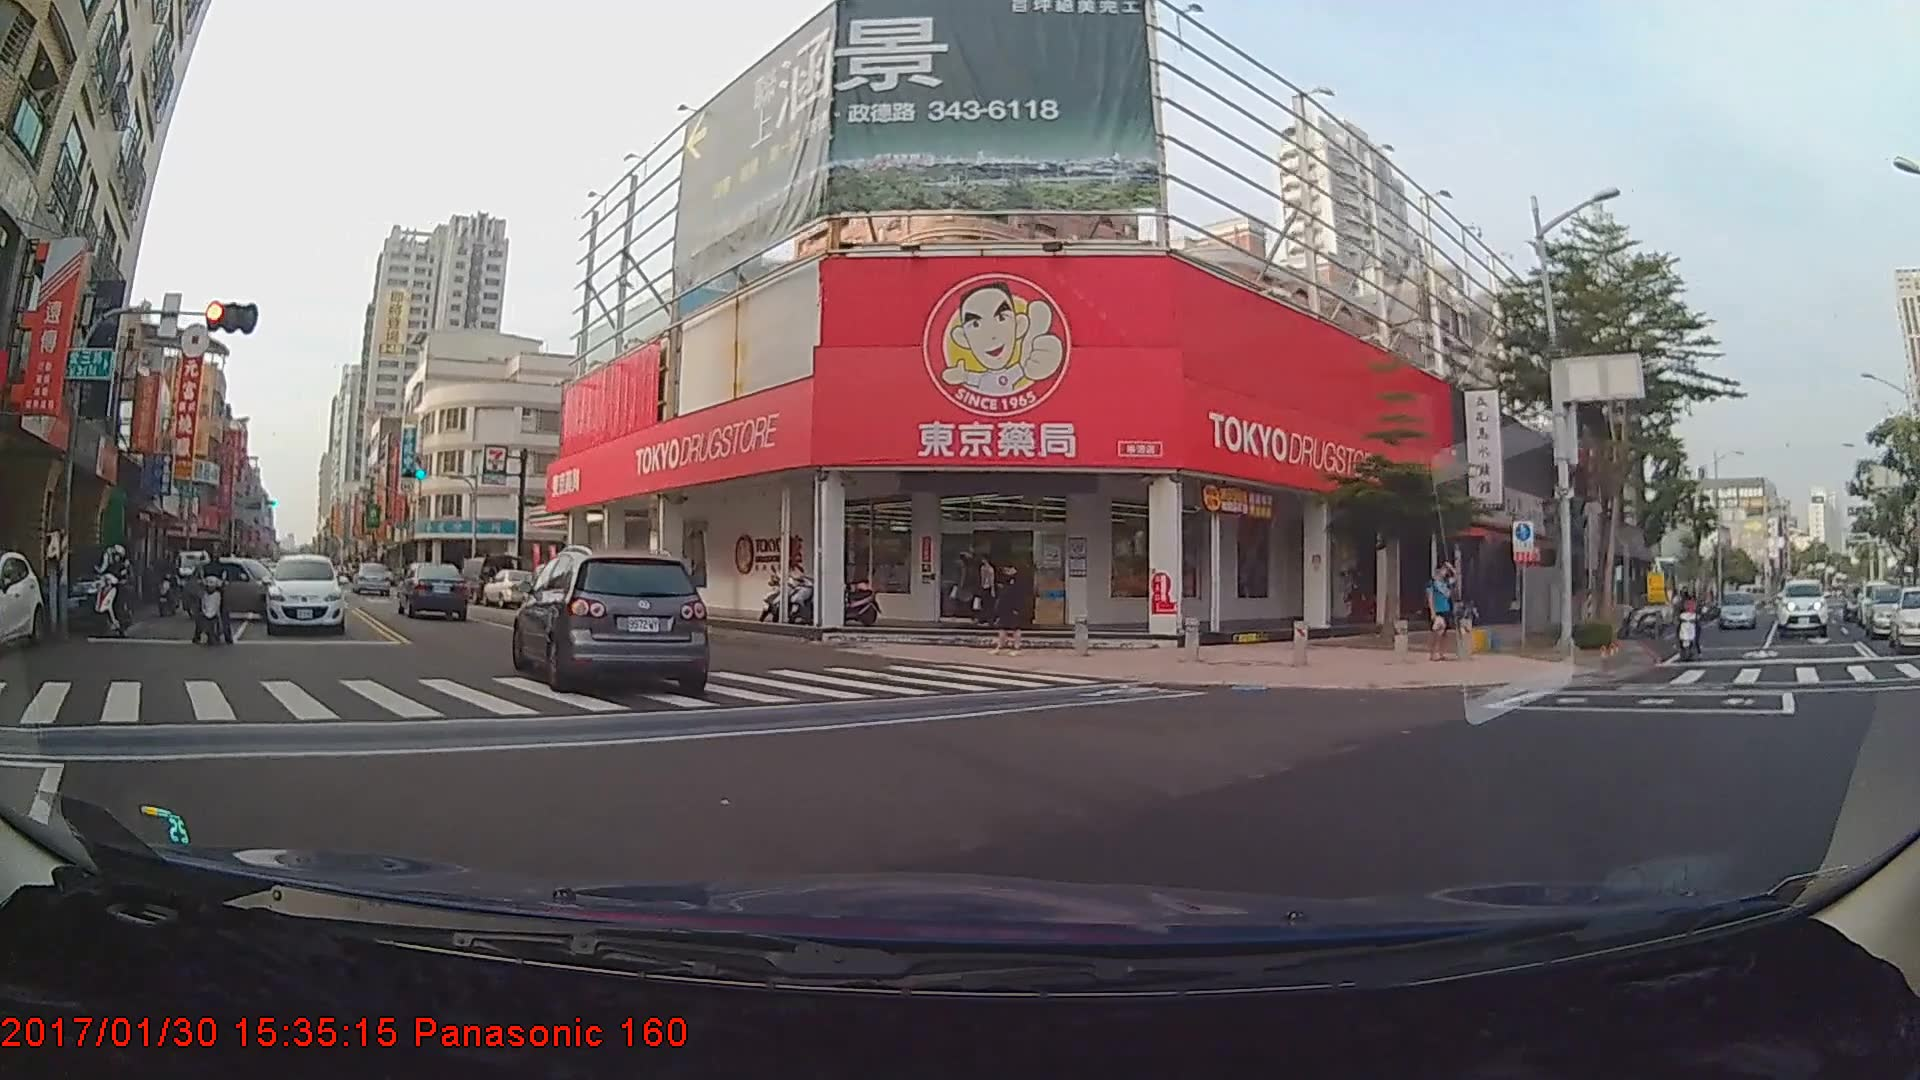pedestrian: (989, 563, 1035, 659), (1425, 557, 1462, 665), (948, 550, 985, 630), (974, 555, 998, 630)
rider: (88, 546, 144, 644), (184, 547, 236, 652), (1668, 589, 1706, 661)
vehicle: (513, 550, 707, 694), (22, 540, 135, 632), (180, 555, 300, 622), (261, 557, 344, 639), (398, 561, 466, 620), (1863, 582, 1920, 638), (1773, 577, 1828, 635), (479, 566, 539, 605), (1888, 584, 1920, 651), (1714, 592, 1750, 630)
